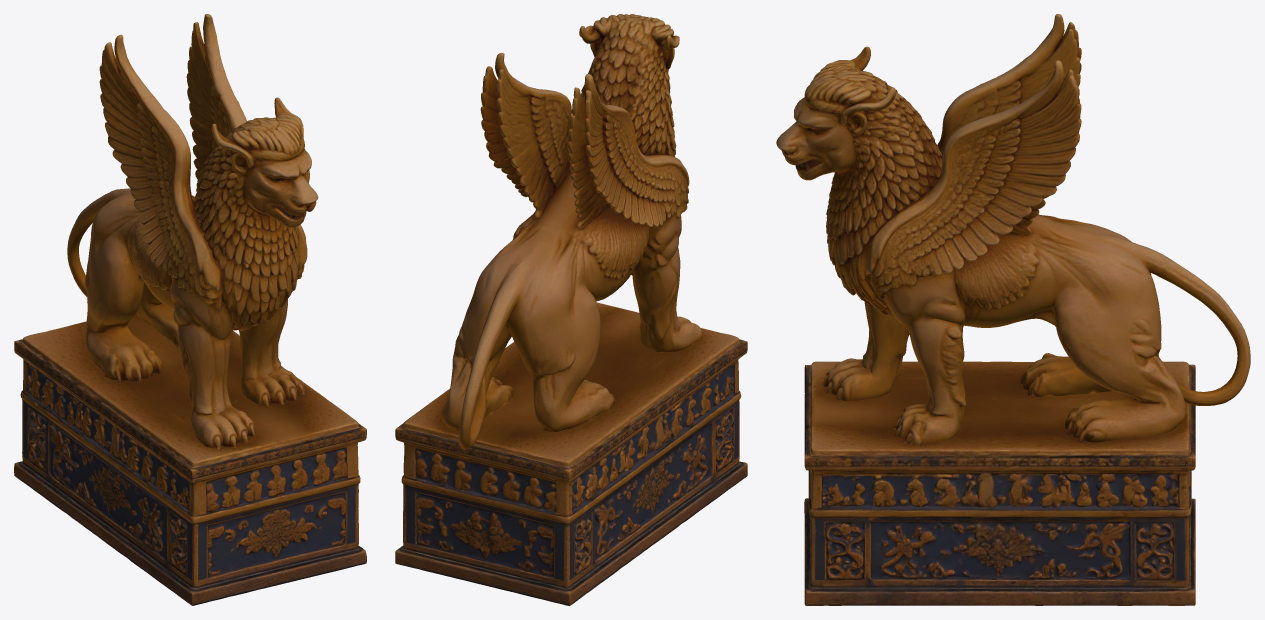
Rendered from lion_winged.glb.glb.
3 renders of one model, left to right at view 1: azimuth 30°, elevation 25°; view 2: azimuth 150°, elevation 25°; view 3: azimuth 270°, elevation 25°, orthographic. The views are drawn at different scales.
Visible parts, largest first — view 1: world; view 2: world; view 3: world.
Boxes of the visible parts, left/top/right/bottom form: world: left=14, top=14, right=366, bottom=605; world: left=395, top=14, right=747, bottom=605; world: left=776, top=14, right=1250, bottom=605.
Bounding box in the file's own units: 0.3853 × 0.9998 × 0.8238.
Materials: 1 (1 with a texture image).
